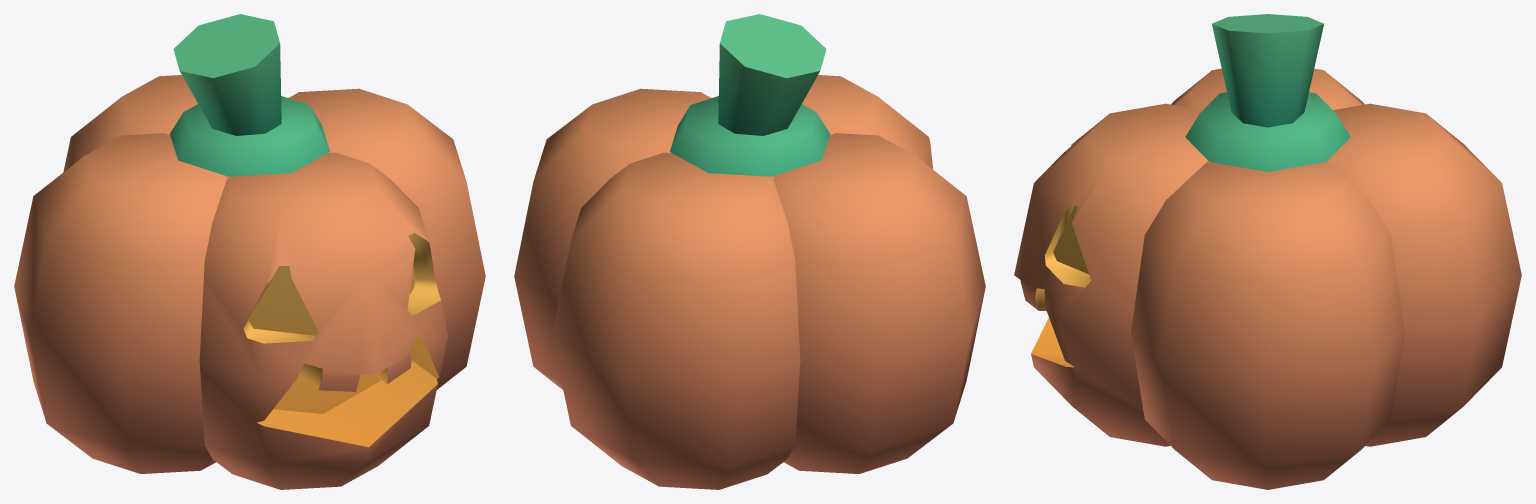
File: pumpkin-carved_lev2.glb
The picture shows the model from 3 angles, left to right: view 1: azimuth 30°, elevation 25°; view 2: azimuth 150°, elevation 25°; view 3: azimuth 270°, elevation 25°; orthographic projection.
Visible parts, largest first — view 1: pumpkin-carved_lev2; view 2: pumpkin-carved_lev2; view 3: pumpkin-carved_lev2.
Part boxes in pixels (x1,y1,x2,y2): pumpkin-carved_lev2: (14,14,485,489); pumpkin-carved_lev2: (514,14,985,489); pumpkin-carved_lev2: (1014,14,1521,489).
Size of the model in its own units: 0.3775 by 0.3211 by 0.3775.
1 material, 1 textured.
